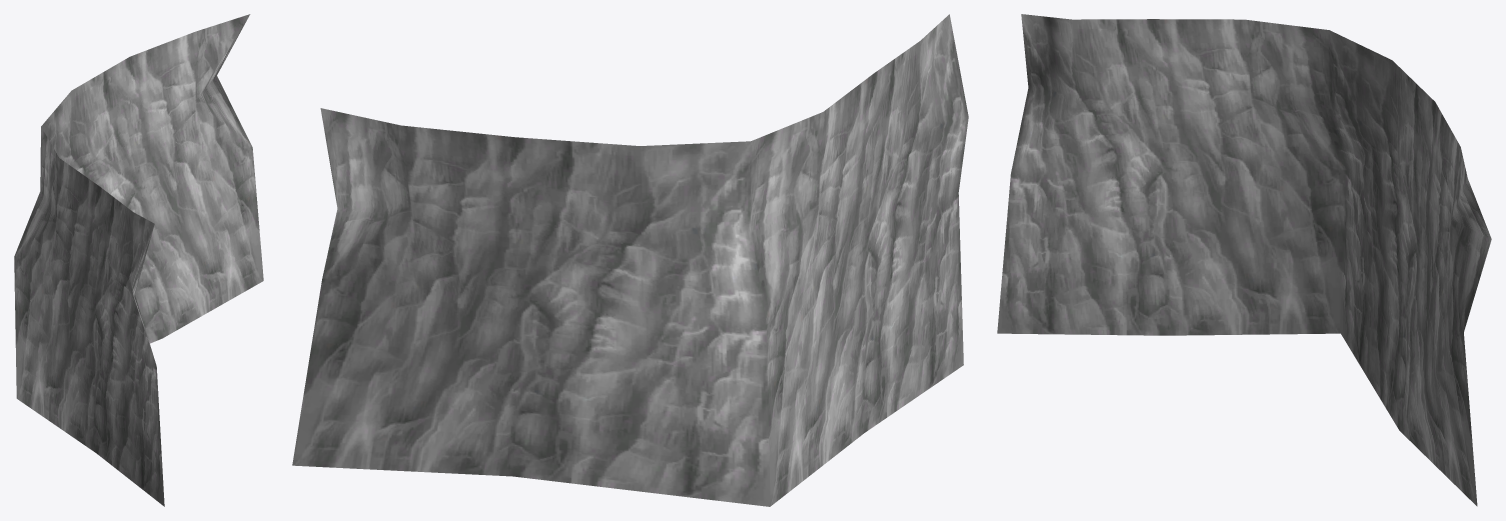
File: SWORDLIGHT20_PS-AREA03_156.fbx
The picture shows the model from 3 angles, left to right: view 1: azimuth 30°, elevation 25°; view 2: azimuth 150°, elevation 25°; view 3: azimuth 270°, elevation 25°; orthographic projection. The views are drawn at different scales.
Parts seen in each view (by area): view 1: SWORDLIGHT20_PS-AREA03_156; view 2: SWORDLIGHT20_PS-AREA03_156; view 3: SWORDLIGHT20_PS-AREA03_156.
Boxes of the visible parts, x1,y1,x2,y2 form: SWORDLIGHT20_PS-AREA03_156: (14, 14, 263, 506); SWORDLIGHT20_PS-AREA03_156: (292, 14, 968, 506); SWORDLIGHT20_PS-AREA03_156: (997, 14, 1491, 506).
Size of the model in its own units: 63368 by 51637 by 72340.
1 material, 1 textured.
